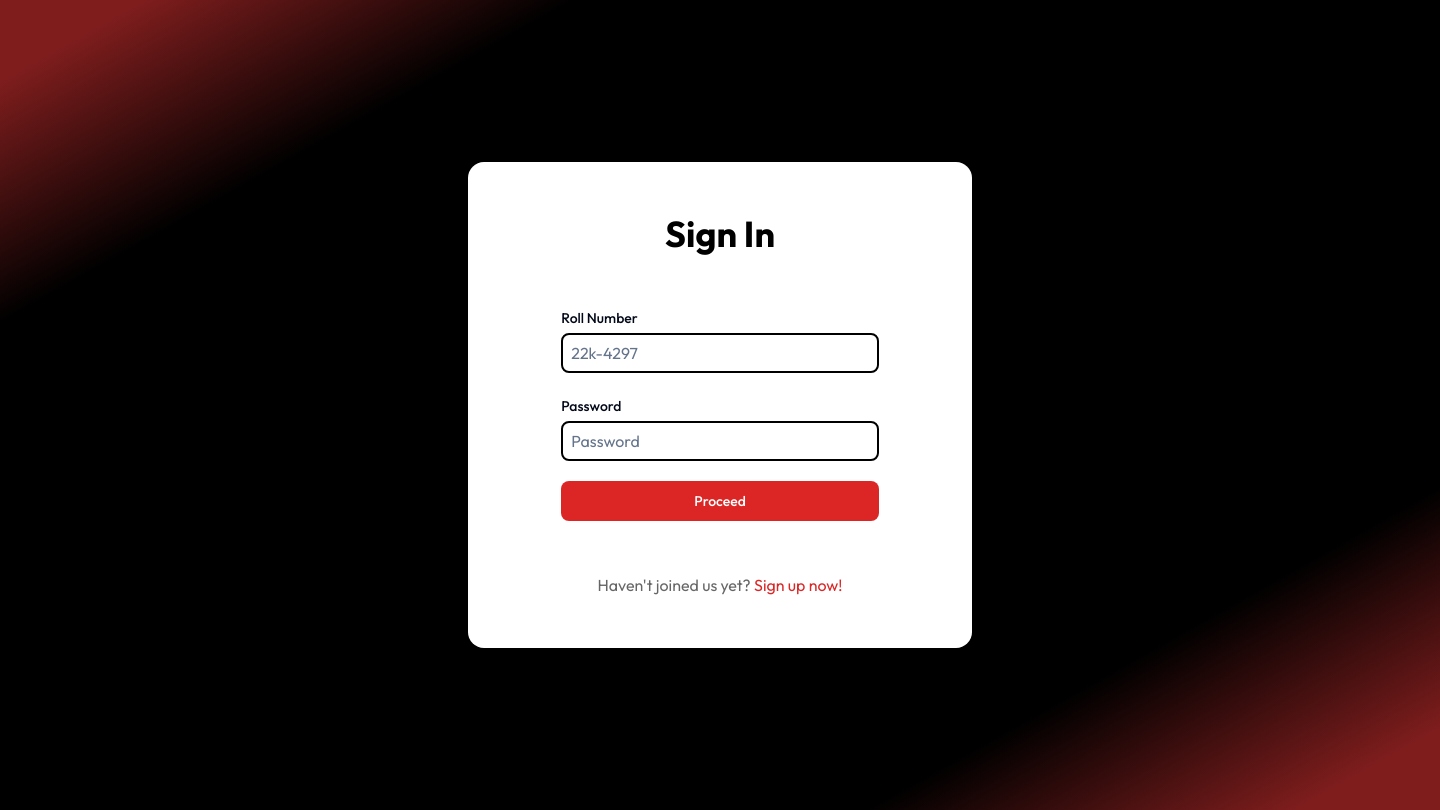
Login Form - Validation Tests › should reject roll number with wrong year format
Type "2k-4297" into the field labelled "Roll Number" at (720, 353), box x1=561 y1=333 x2=879 y2=373
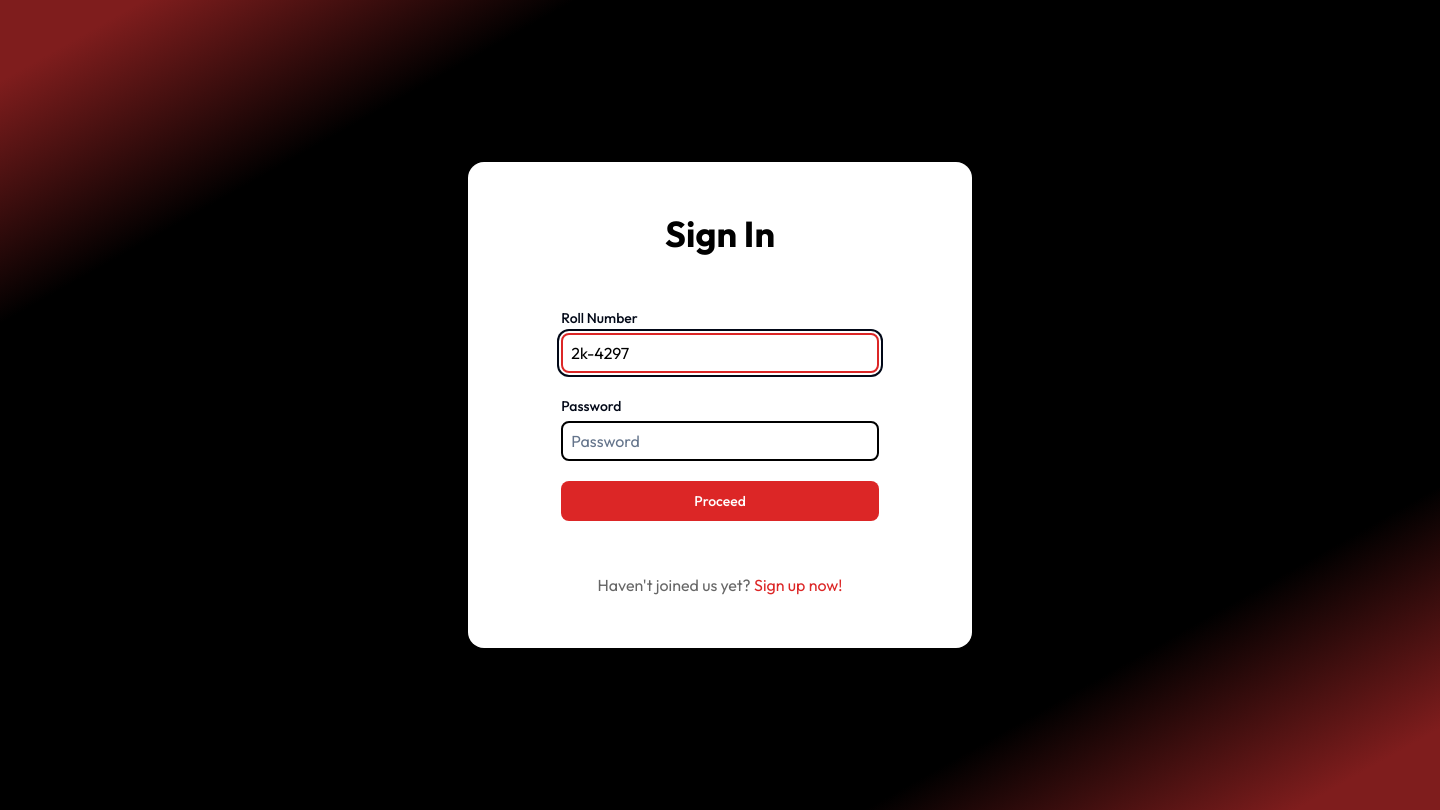
Type "password123" into the password field labelled "Password" at (720, 441), box x1=561 y1=421 x2=879 y2=461
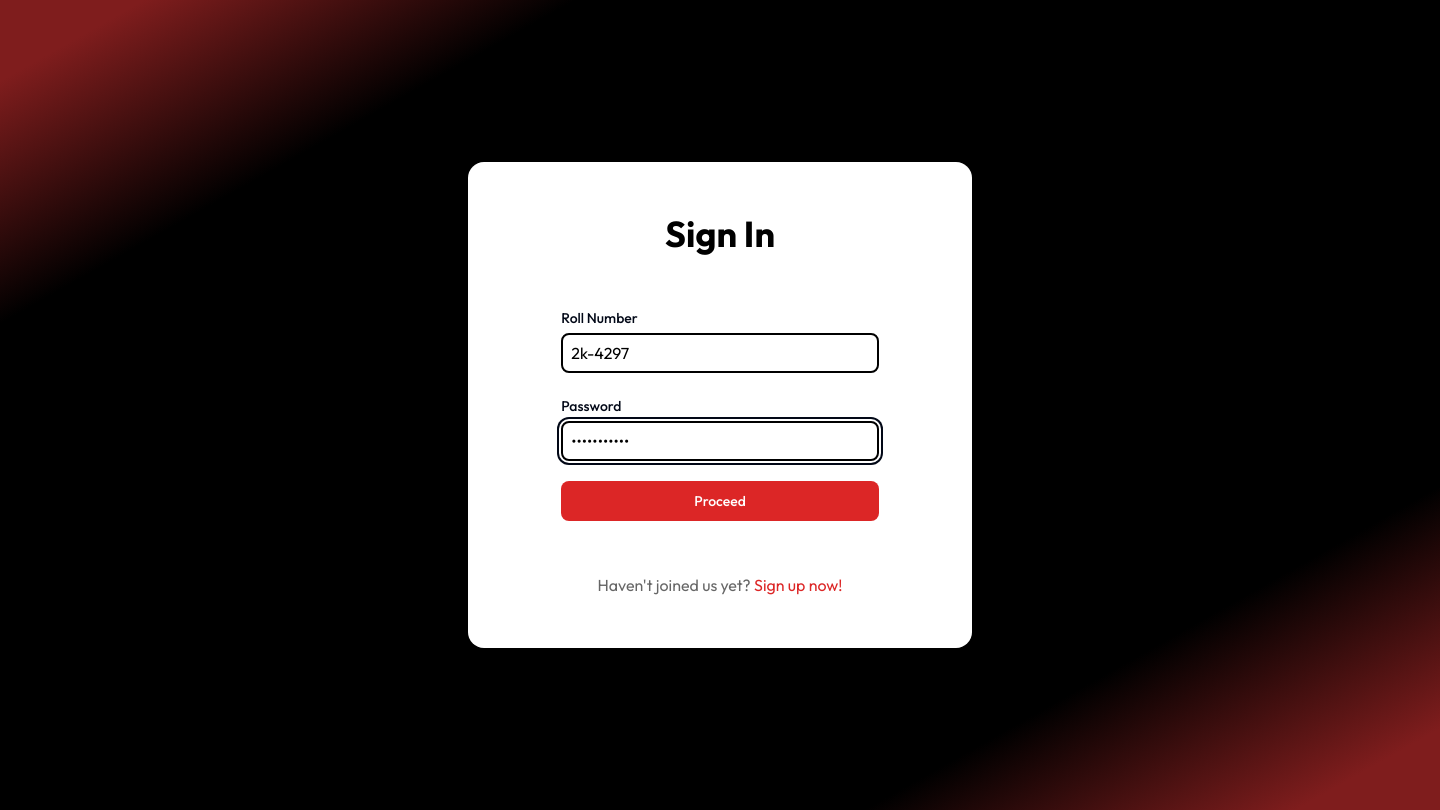
Click the button "Proceed" at (720, 501), box x1=561 y1=481 x2=879 y2=521
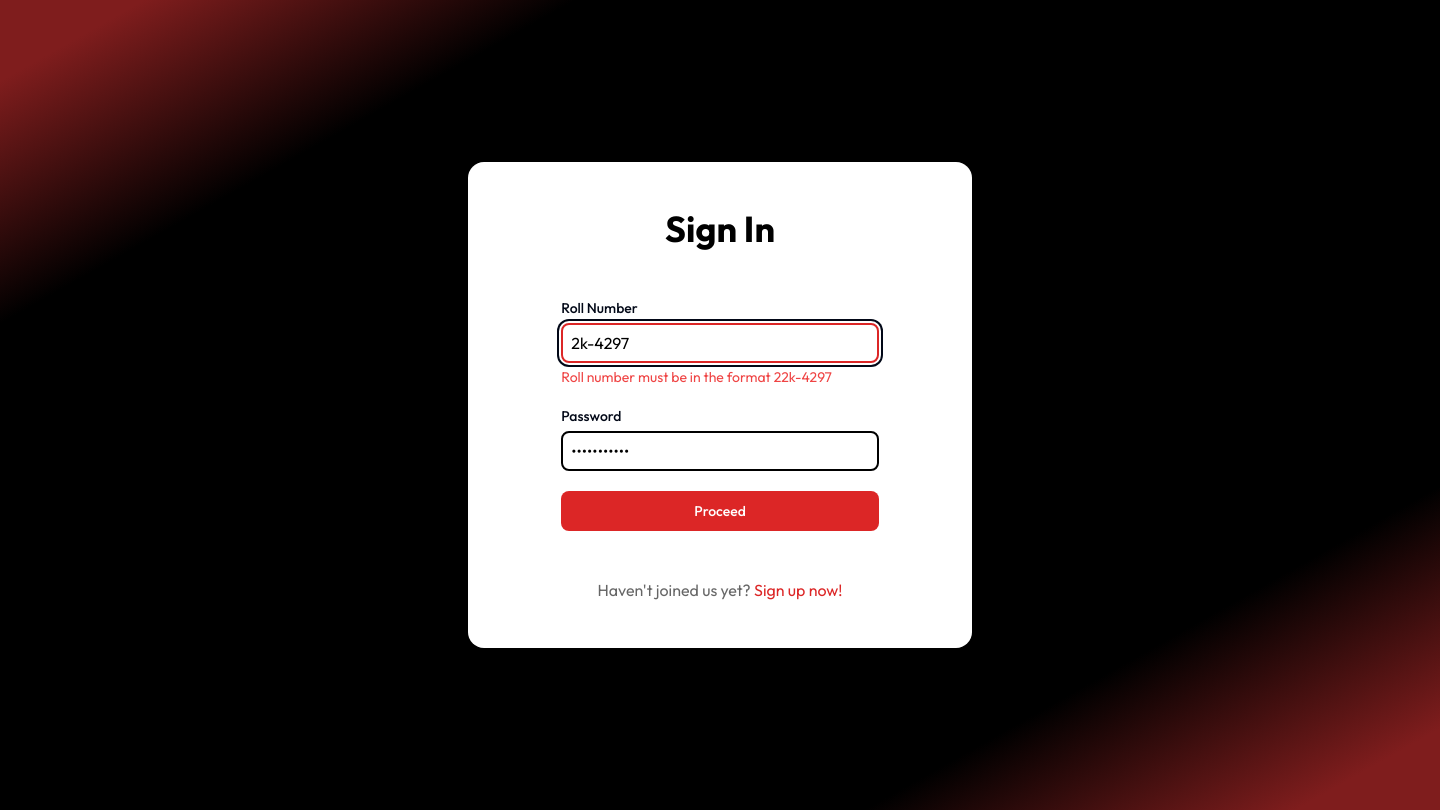
Expected: the text "Roll number must be in the format 22k-4297" is shown, x1=561 y1=367 x2=879 y2=387
